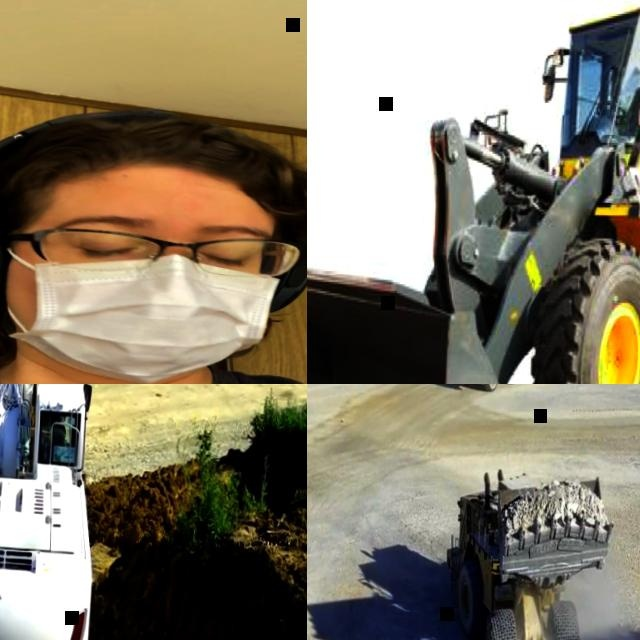Hardhat: (0, 105, 307, 206)
Mask: (0, 247, 288, 381)
Person: (0, 97, 307, 384)
machinery: (307, 0, 640, 384), (443, 464, 614, 640), (0, 384, 103, 640)
